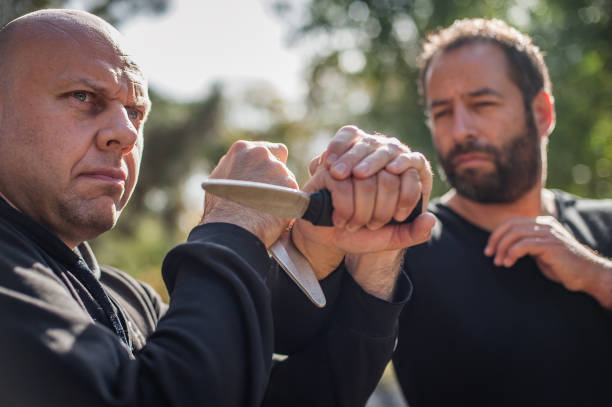knife: (199, 176, 424, 229), (268, 228, 329, 309)
